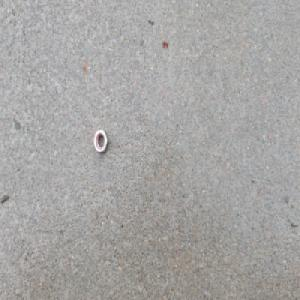Nut: (93, 128, 108, 154)
